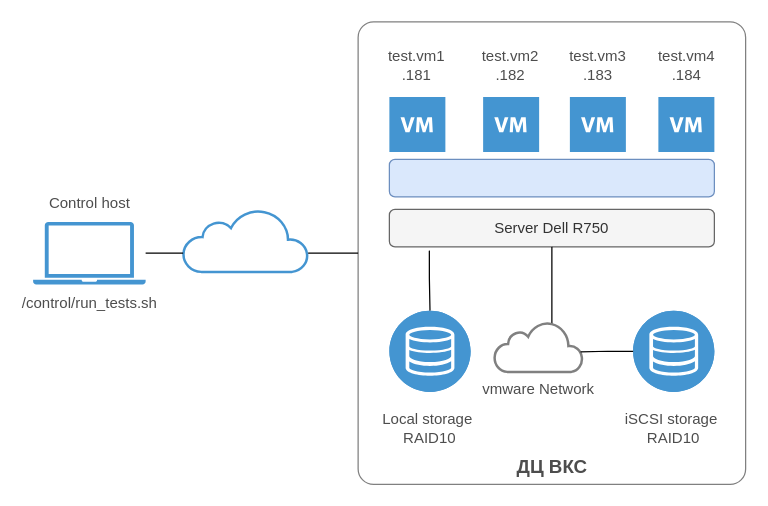
The diagram is 768 pixels wide and 506 high, and some of its shapes have lost their labels. Each missing label, with the centre of its shape:
"Public Network" belongs at (245,240).
"vmWare ESXi 8.0" belongs at (551,177).
